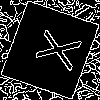X: (25, 25, 83, 72)
